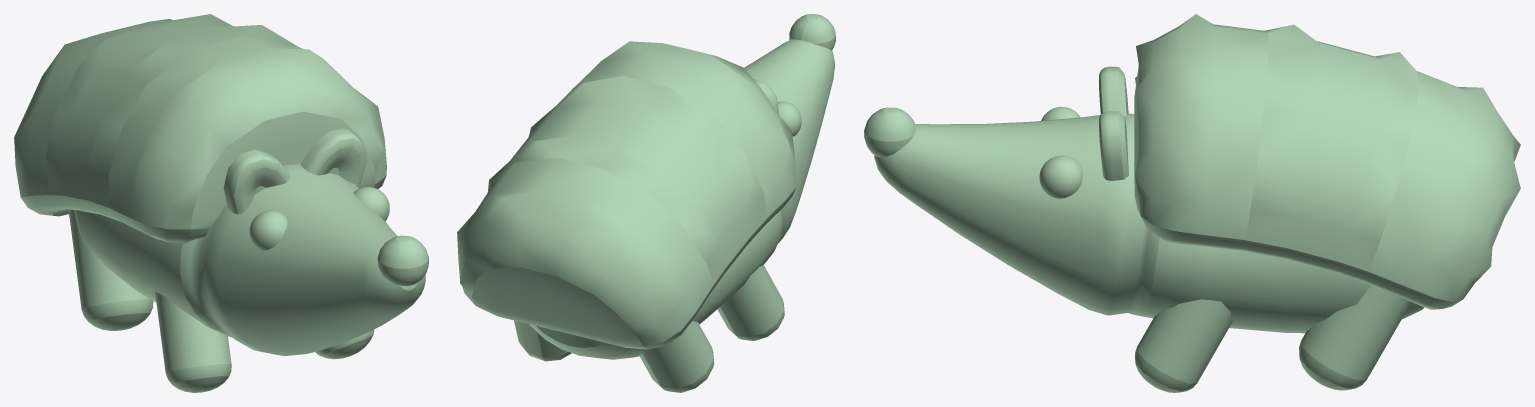
The model's file is NPC_Hedgehog.fbx.
The picture shows the model from 3 angles, left to right: view 1: azimuth 30°, elevation 25°; view 2: azimuth 150°, elevation 25°; view 3: azimuth 270°, elevation 25°; orthographic projection. The views are drawn at different scales.
Parts seen in each view (by area): view 1: Hedgehog; view 2: Hedgehog; view 3: Hedgehog.
Boxes of the visible parts, bbox=[...] form: Hedgehog: bbox=[14, 14, 428, 392]; Hedgehog: bbox=[457, 14, 835, 392]; Hedgehog: bbox=[864, 14, 1520, 392].
Size of the model in its own units: 11.13 by 13.12 by 24.86.
